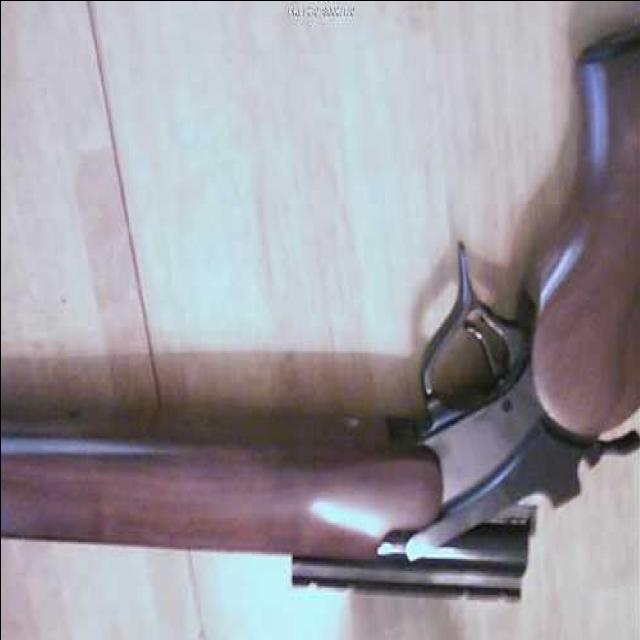heavyweapon: (3, 32, 640, 612)
